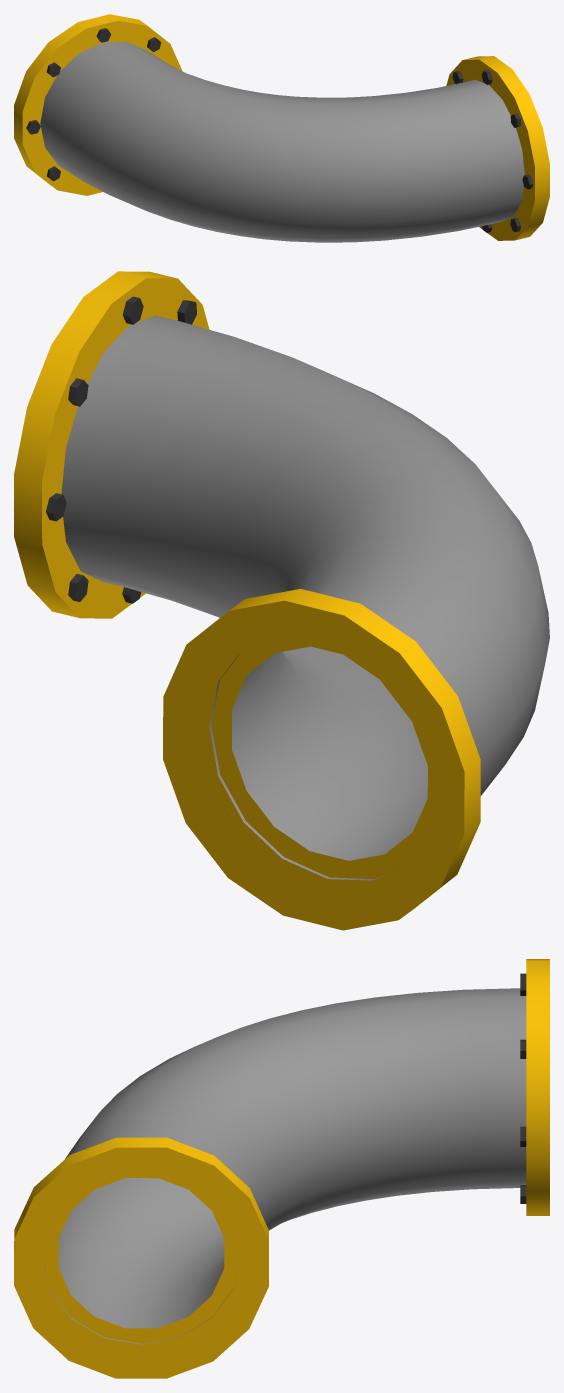
File: pipe bend 2.fbx
3 renders of one model, top to bottom at view 1: azimuth 30°, elevation 25°; view 2: azimuth 150°, elevation 25°; view 3: azimuth 270°, elevation 25°, orthographic. The views are drawn at different scales.
Visible parts, largest first — view 1: Bend_Pipe_2; view 2: Bend_Pipe_2; view 3: Bend_Pipe_2.
Part boxes in pixels (x1,y1,x2,y2): Bend_Pipe_2: (14, 14, 549, 242); Bend_Pipe_2: (14, 271, 549, 930); Bend_Pipe_2: (14, 959, 549, 1378).
Size of the model in its own units: 68.74 by 32.28 by 67.82.
